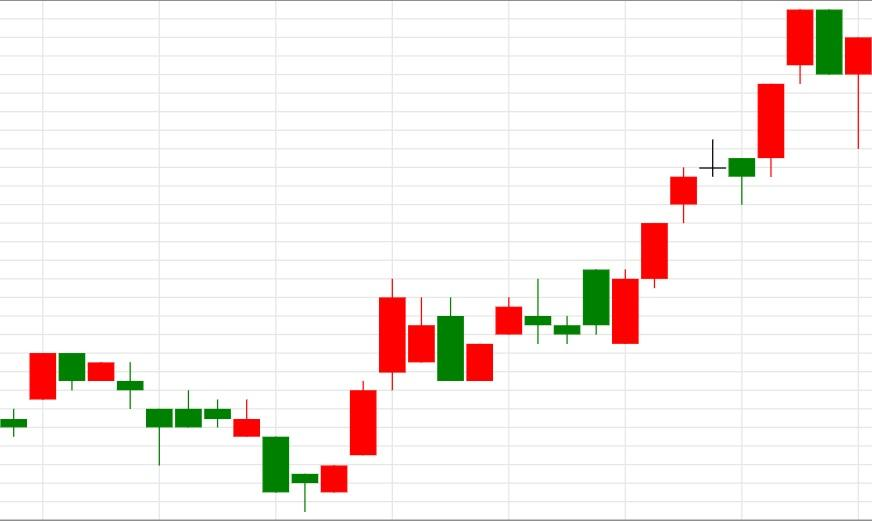bearish_engulfing_fall: (291, 278, 465, 512)
three_white_soldiers_rise: (28, 277, 407, 512)
